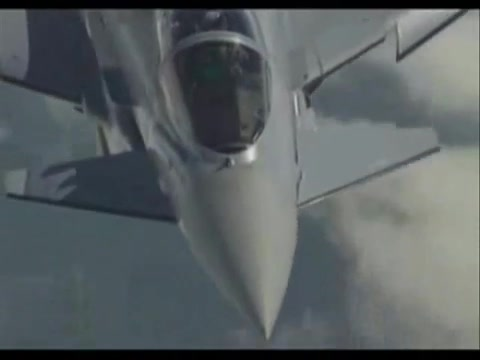aeroplane: (1, 11, 470, 342)
